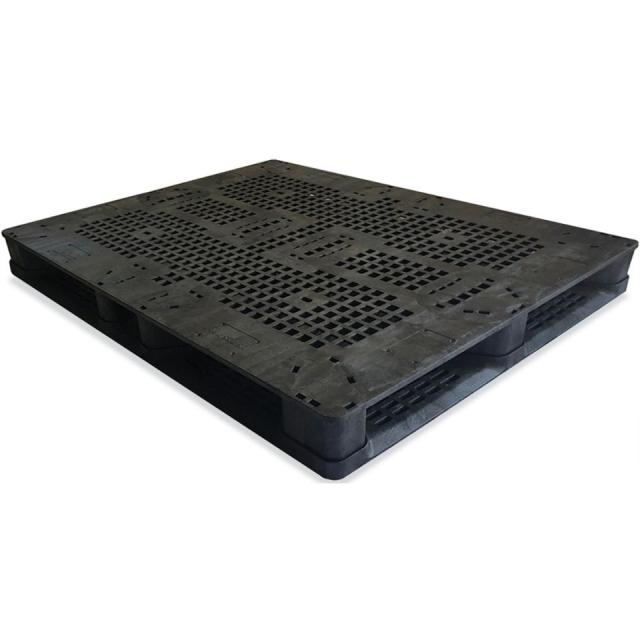non-igps: (0, 155, 640, 483)
